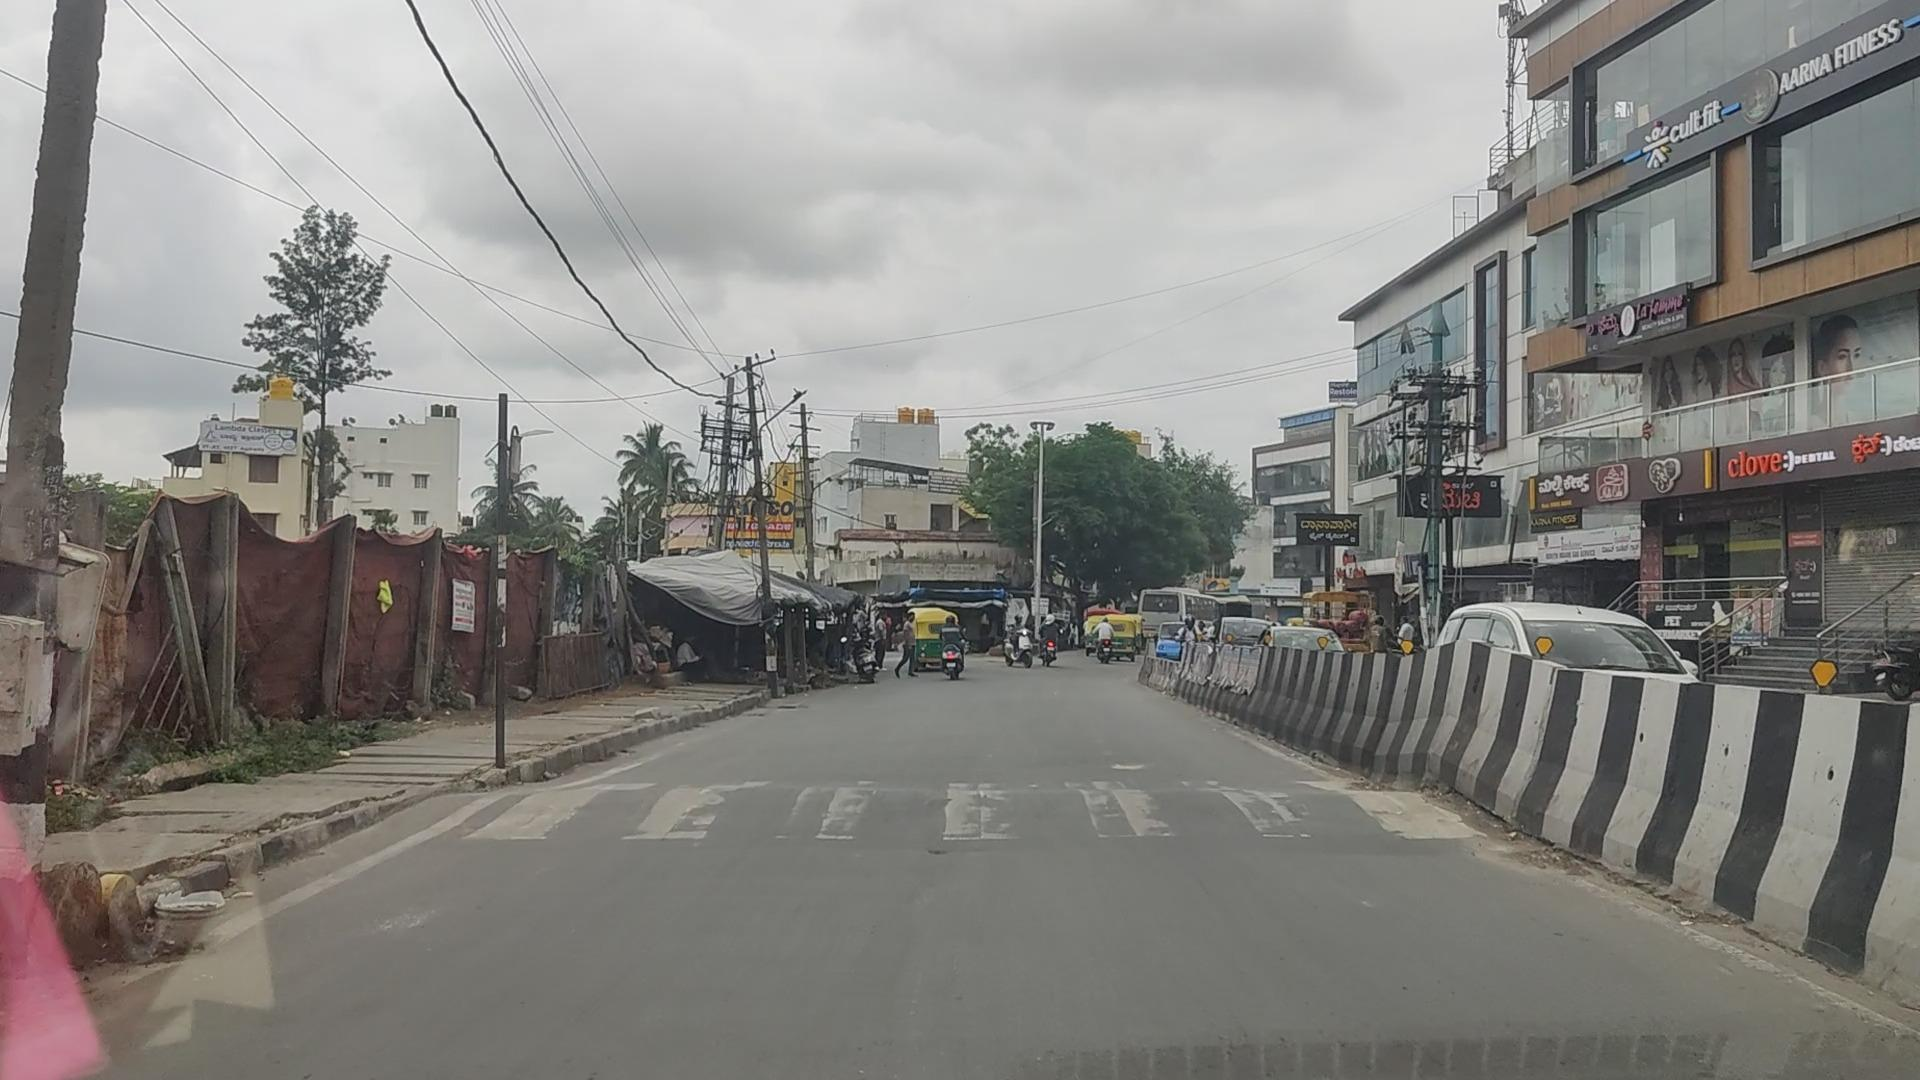SpeedBump: (416, 770, 1456, 848)
